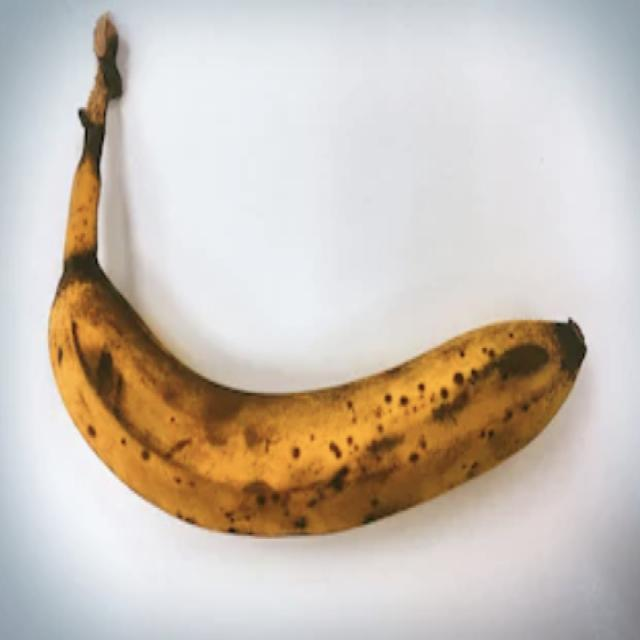rotten-banana: (46, 8, 587, 537)
